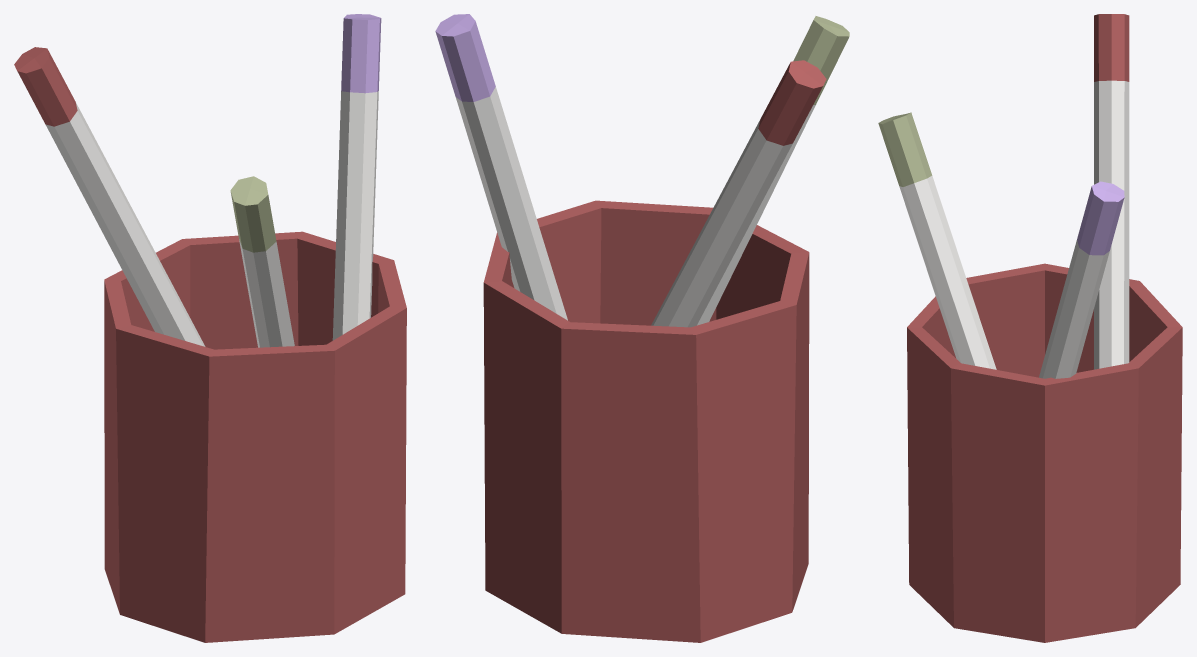
Rendered from Pens_2.fbx.
3 renders of one model, left to right at view 1: azimuth 30°, elevation 25°; view 2: azimuth 150°, elevation 25°; view 3: azimuth 270°, elevation 25°, orthographic. The views are drawn at different scales.
Visible parts, largest first — view 1: Pens_2; view 2: Pens_2; view 3: Pens_2.
Part boxes in pixels (x1,y1,x2,y2): Pens_2: (14, 14, 406, 642); Pens_2: (435, 14, 849, 642); Pens_2: (878, 14, 1182, 642).
Bounding box in the file's own units: 21.1 × 17.13 × 31.01.
